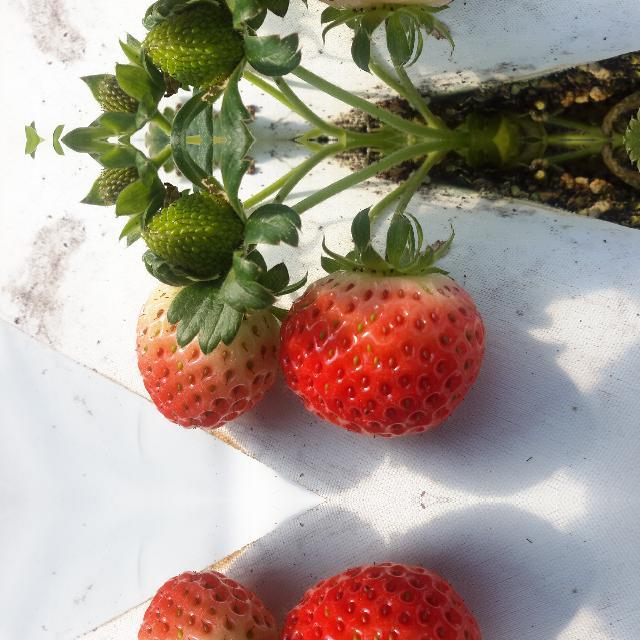Health_100: (280, 269, 484, 437), (134, 282, 284, 434), (279, 563, 484, 640), (134, 565, 283, 640)
Health_25: (138, 192, 258, 272), (138, 8, 258, 88)
